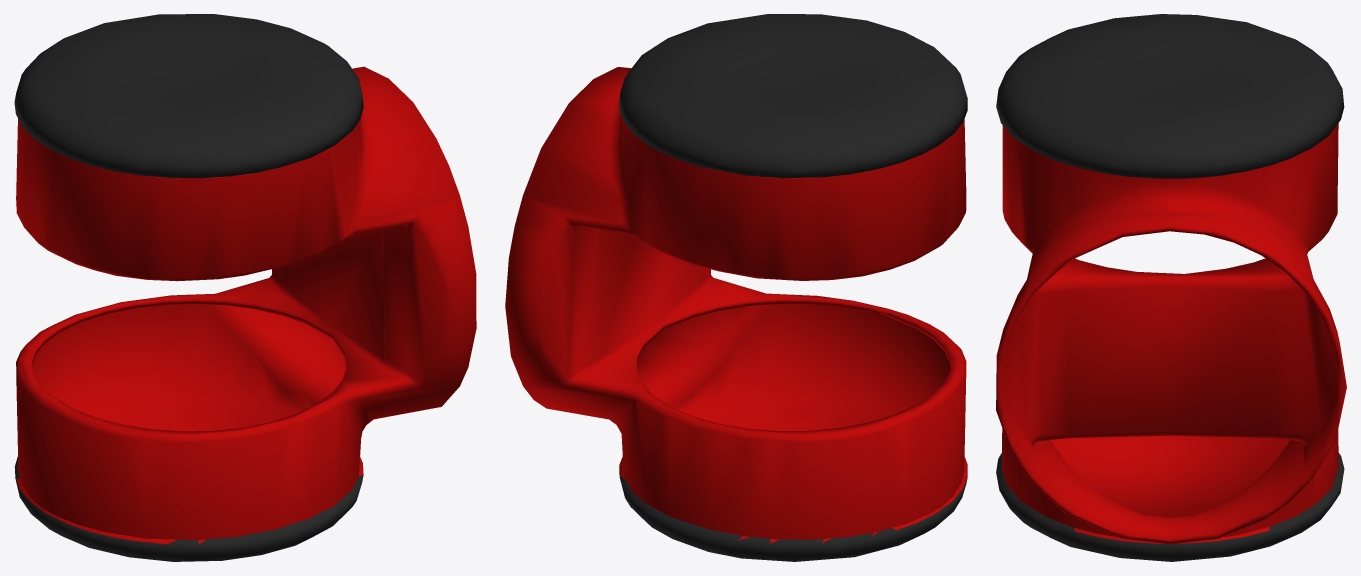
The picture shows the model from 3 angles, left to right: view 1: azimuth 30°, elevation 25°; view 2: azimuth 150°, elevation 25°; view 3: azimuth 270°, elevation 25°; orthographic projection.
Parts seen in each view (by area): view 1: E1; view 2: E1; view 3: E1.
Boxes of the visible parts, x1,y1,x2,y2 form: E1: [14, 14, 476, 561]; E1: [505, 14, 967, 561]; E1: [996, 14, 1346, 561].
Bounding box in the file's own units: 0.1608 × 0.1396 × 0.1893.
